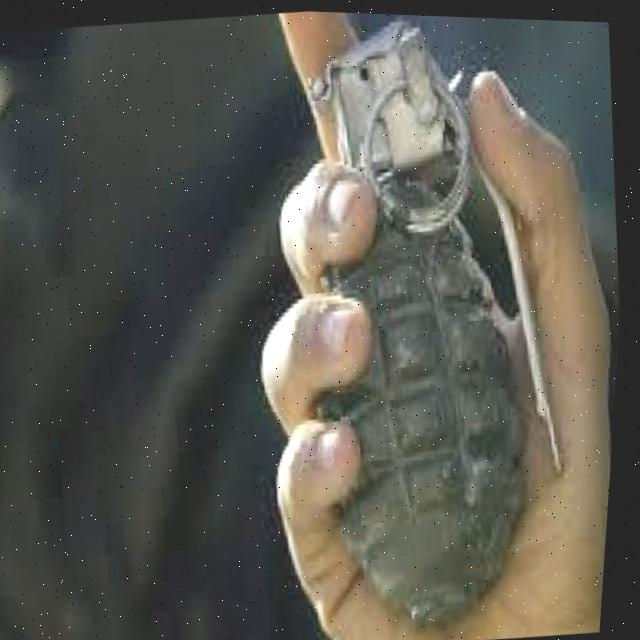grenade: (253, 8, 611, 640)
